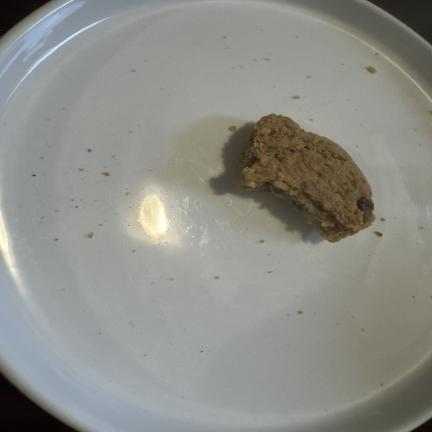cookie: (238, 114, 374, 242)
